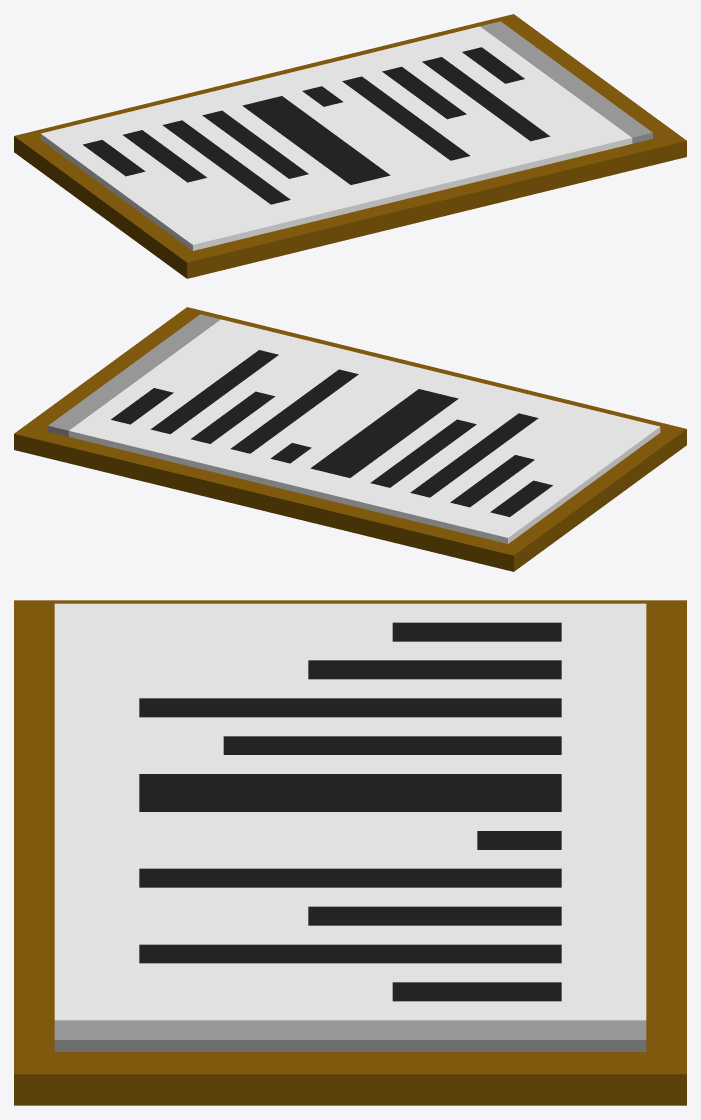
File: Clipboard.fbx
3 renders of one model, top to bottom at view 1: azimuth 30°, elevation 25°; view 2: azimuth 150°, elevation 25°; view 3: azimuth 270°, elevation 25°, orthographic. The views are drawn at different scales.
Parts seen in each view (by area): view 1: Clipboard; view 2: Clipboard; view 3: Clipboard.
Boxes of the visible parts, box(x1,y1,x2,y2) form: Clipboard: box(14, 14, 686, 278); Clipboard: box(14, 307, 686, 571); Clipboard: box(14, 600, 686, 1105).
Bounding box in the file's own units: 20 × 0.8552 × 12.
